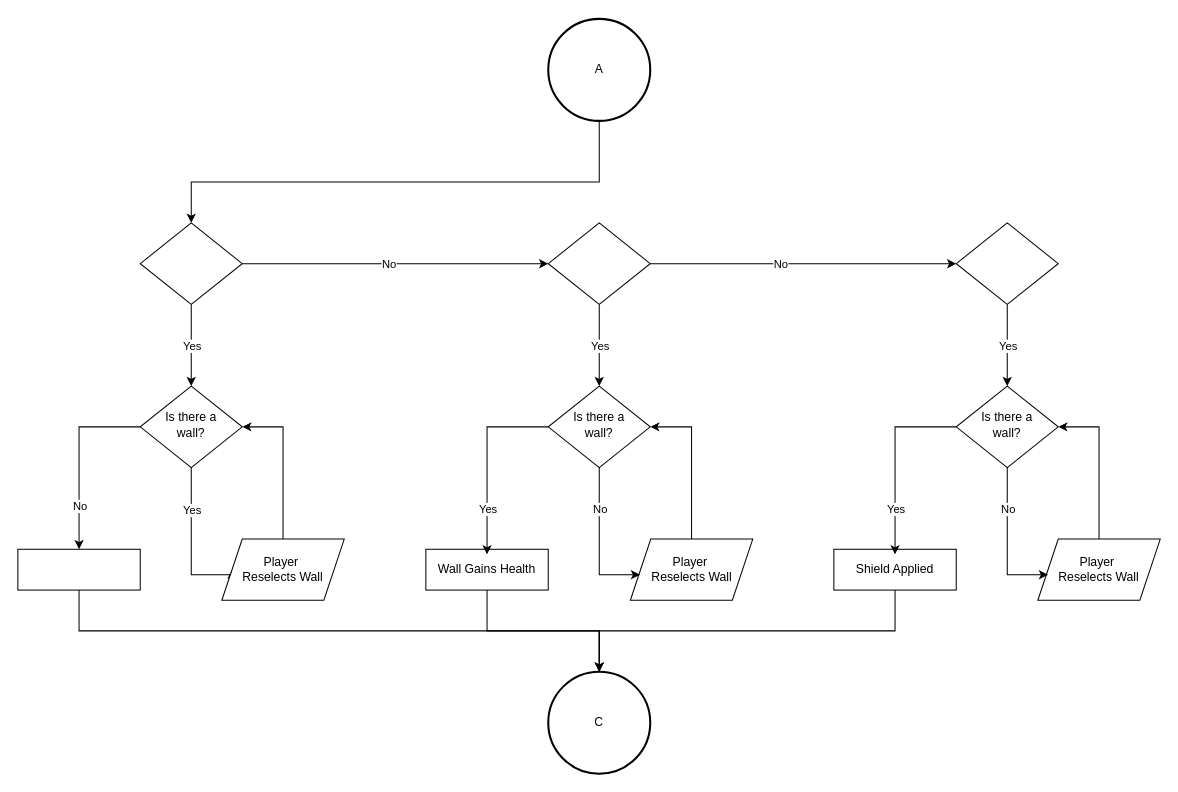
Some shapes in this 1178 by 792 pixel diagram are drawn without their labels. The shapes that lost their labels are listed below. From the top down, each one's centre as x and y in pixels, then its label:
At point 190,263: "Was Rebuild Played?".
At point 598,263: "Was Repair Played?".
At point 1006,263: "Was Shield Played?".
At point 78,569: "Wall Rebuilts".
